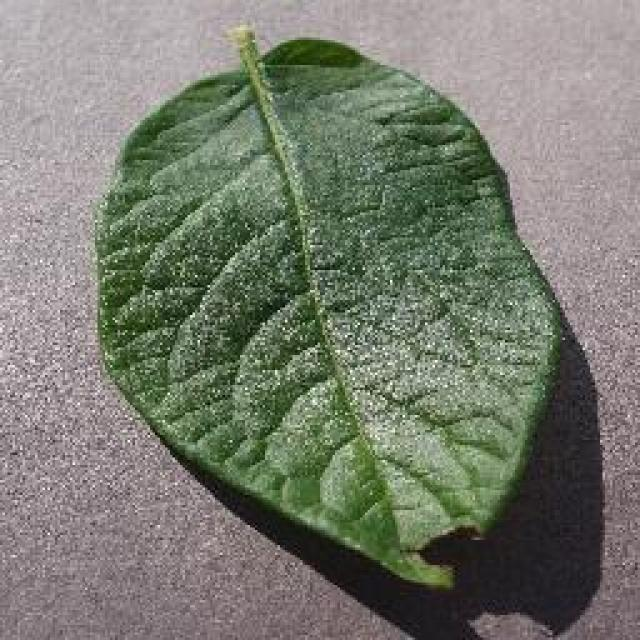Potato___healthy: (88, 21, 568, 596)
